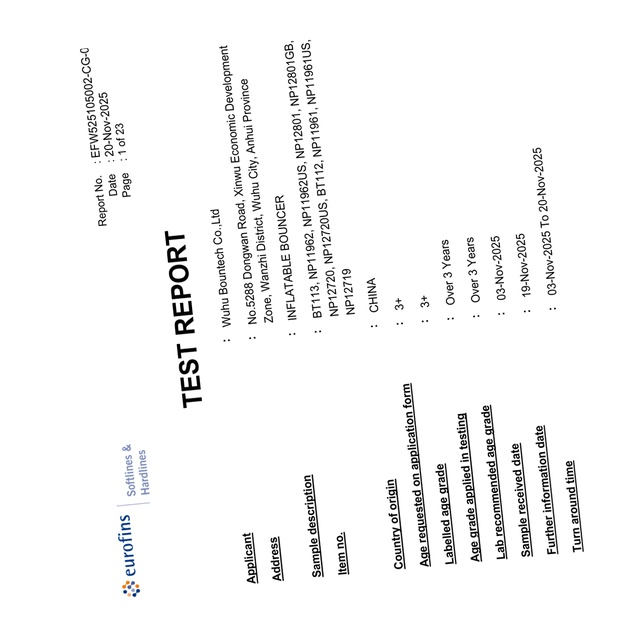eurofins: (109, 509, 156, 601)
